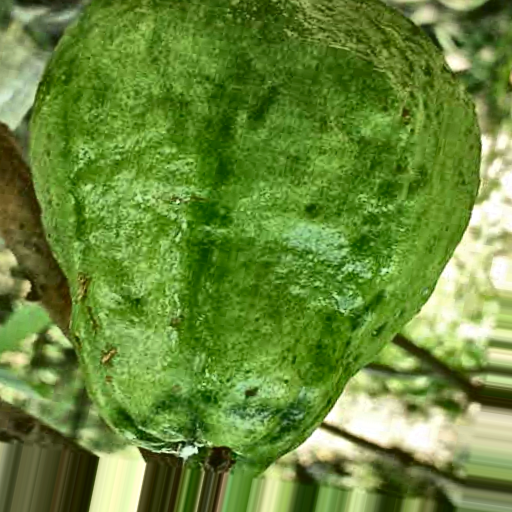guava: (39, 67, 395, 512)
